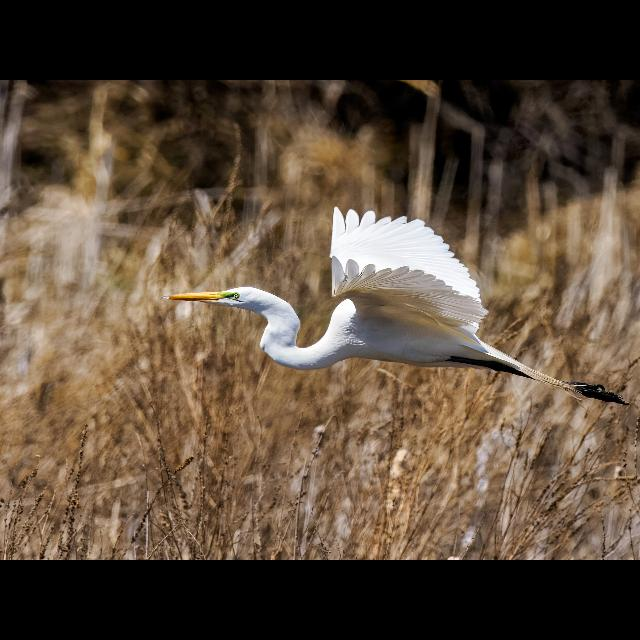egret: (162, 208, 622, 404)
